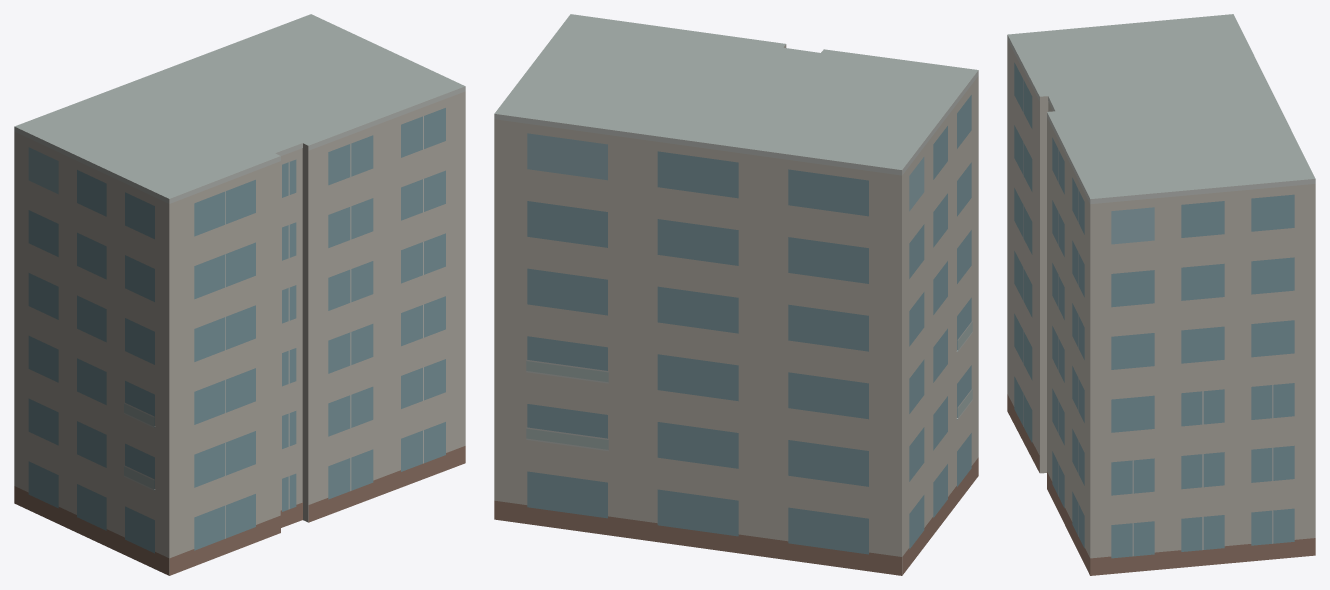
Rendered from survey-upis-32708916.glb.
The picture shows the model from 3 angles, left to right: view 1: azimuth 30°, elevation 25°; view 2: azimuth 150°, elevation 25°; view 3: azimuth 270°, elevation 25°; orthographic projection. The views are drawn at different scales.
Parts seen in each view (by area): view 1: survey-upis-32708916.tmp; view 2: survey-upis-32708916.tmp; view 3: survey-upis-32708916.tmp.
Part boxes in pixels (left/top/right/bottom): survey-upis-32708916.tmp: left=14, top=14, right=465, bottom=575; survey-upis-32708916.tmp: left=494, top=14, right=978, bottom=575; survey-upis-32708916.tmp: left=1007, top=14, right=1315, bottom=575.
Bounding box in the file's own units: 19.3 × 18.3 × 13.58.
